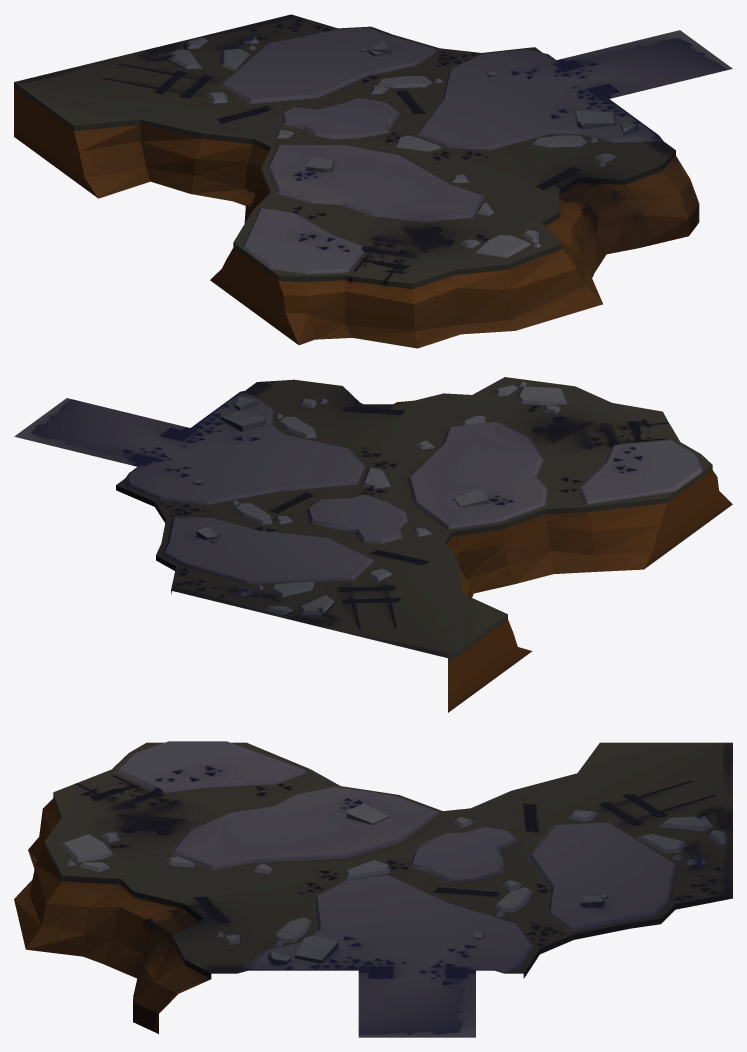
The model's file is Ground_01.FBX.
3 renders of one model, top to bottom at view 1: azimuth 30°, elevation 25°; view 2: azimuth 150°, elevation 25°; view 3: azimuth 270°, elevation 25°, orthographic. The views are drawn at different scales.
Parts seen in each view (by area): view 1: Ground_01; view 2: Ground_01; view 3: Ground_01.
Part boxes in pixels (x1,y1,x2,y2): Ground_01: [14, 14, 732, 348]; Ground_01: [14, 377, 732, 712]; Ground_01: [14, 741, 732, 1037].
Size of the model in its own units: 22.19 by 2.42 by 22.65.
